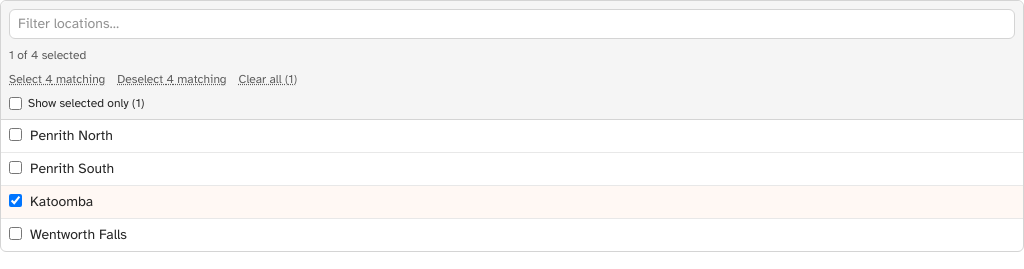
Test case: MultiSelectList › 'Show selected only' narrows to the current selection
Click the checkbox labelled "Show selected only (1)".
click(16, 103)  # box [9, 96, 22, 110]
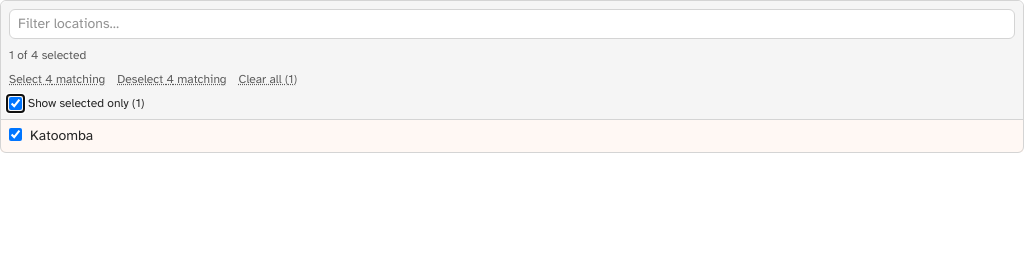
Expected: the checkbox labelled "Katoomba" is shown, [9, 128, 22, 141]
Expected: the text "Penrith North" is gone
Expected: the text "Wentworth Falls" is gone
